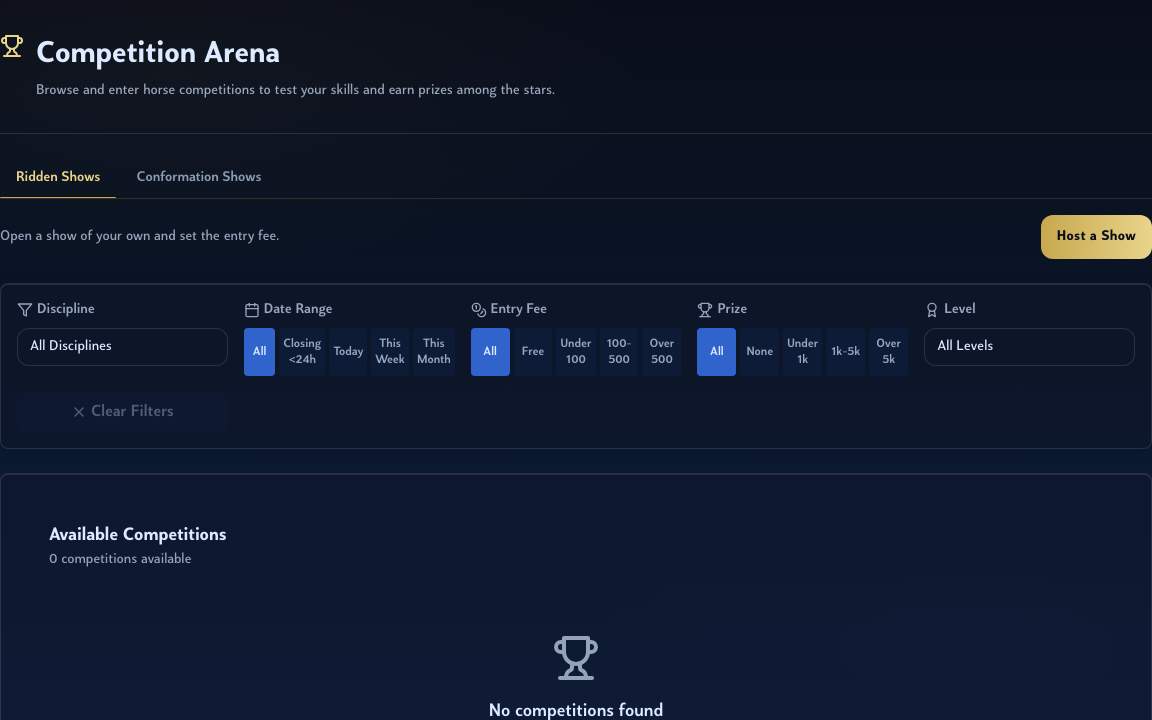
CompetitionBrowserPage: Host a Show (Equoria-oey96.13) › opens the host dialog from the Ridden tab
This screenshot has width=1152, height=720.
Click the button with test id "host-show-button".
click(1096, 237)  # box top-left (1041, 215), bottom-right (1151, 259)
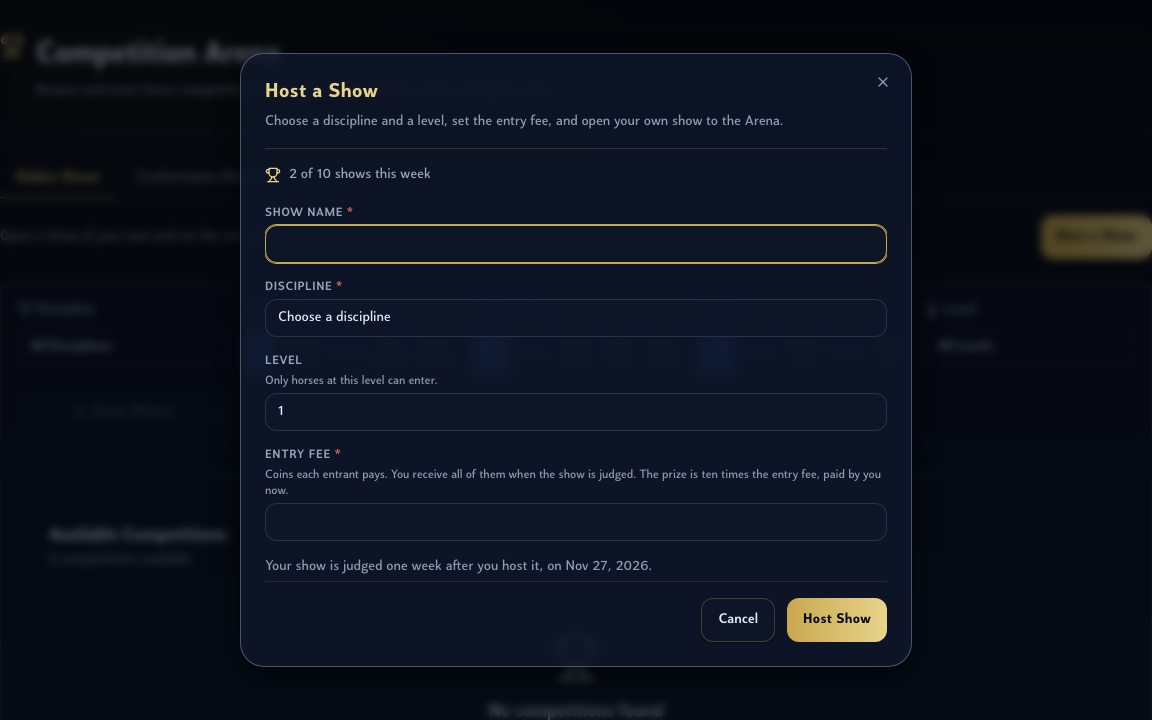
Check: the dialog with test id "create-show-dialog" is shown, box top-left (240, 53), bottom-right (912, 667)
Check: the text "2 of 10 shows this week" is shown, box top-left (289, 165), bottom-right (431, 185)
